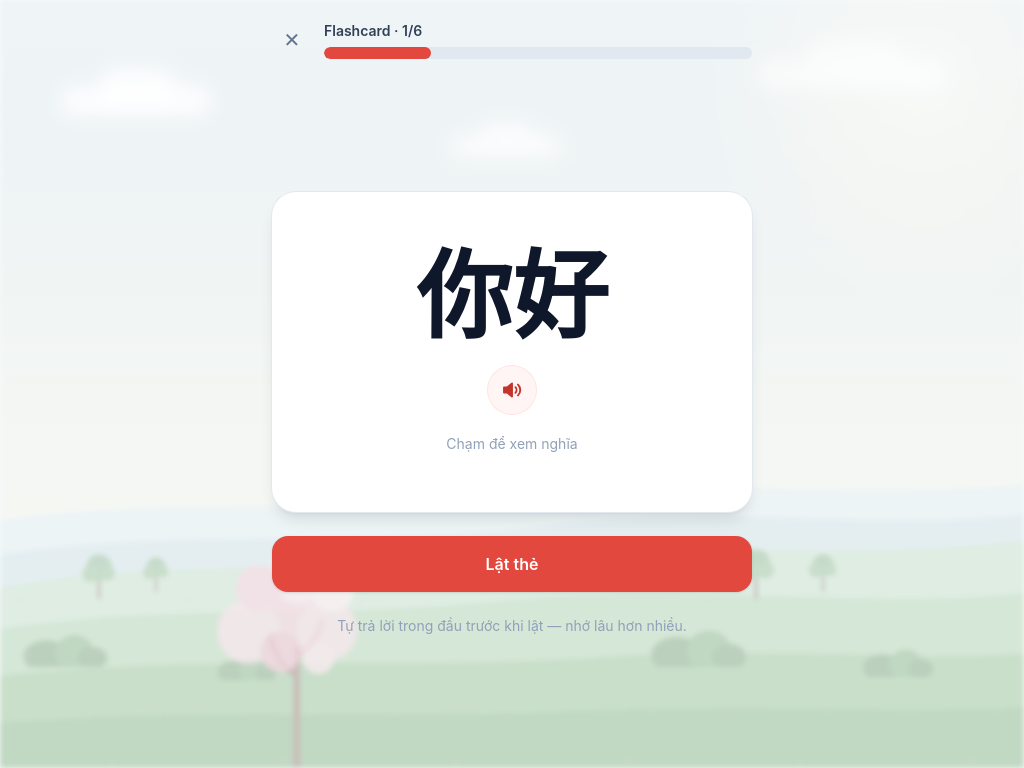
Test: Flashcard › chỉ hiện nút đánh giá sau khi đã lật thẻ
The width and height of the screenshot is (1024, 768).
Expected: the button "Đã nhớ" is not shown
Step 1. Click the button "Lật thẻ" → point(512, 564), box [272,536,752,592]
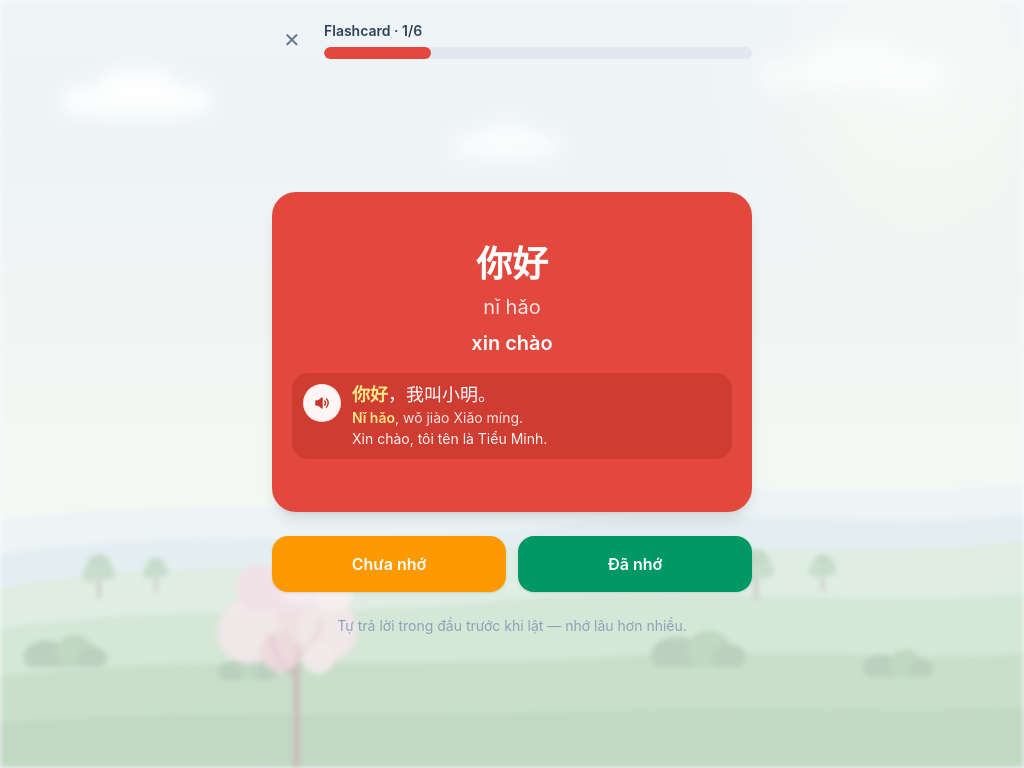
Expected: the button "Đã nhớ" is shown, [518,536,752,592]
